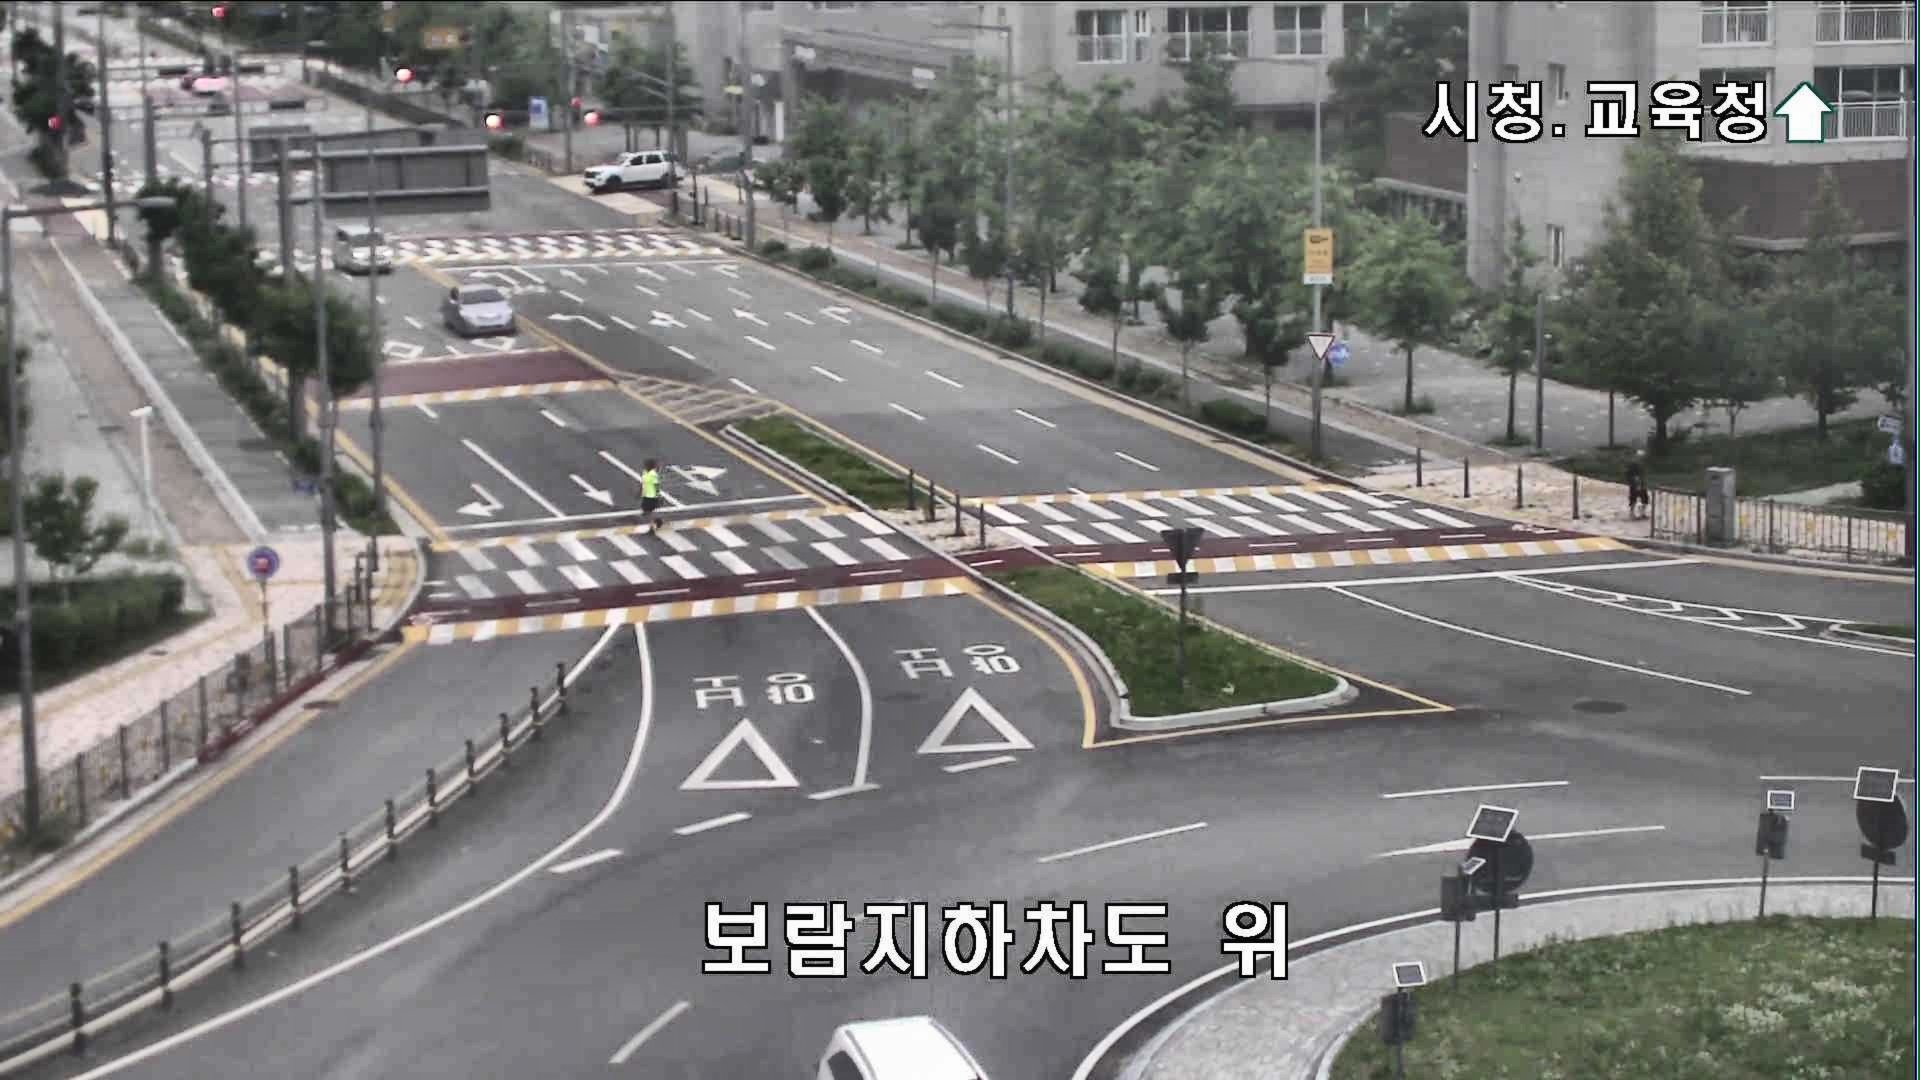crosswalk: (634, 458, 661, 535)
sidewalk: (1625, 448, 1654, 524)
